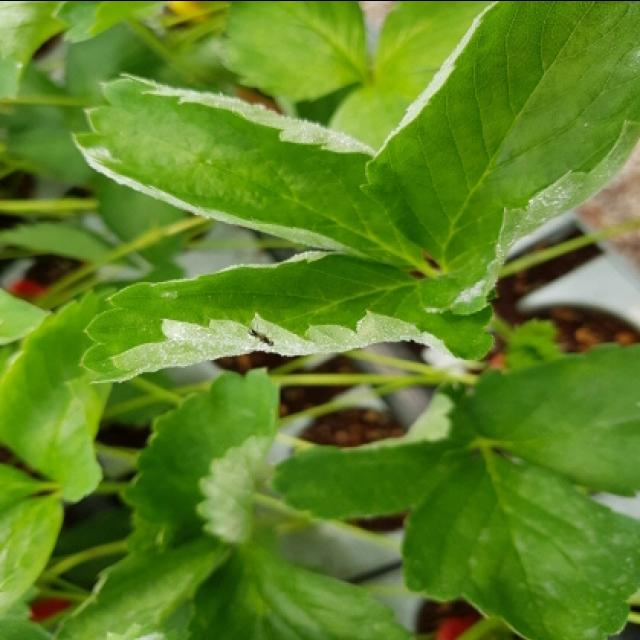Powdery Mildew Leaf: (359, 2, 638, 316), (70, 71, 427, 272), (76, 249, 499, 383), (119, 366, 281, 547)
